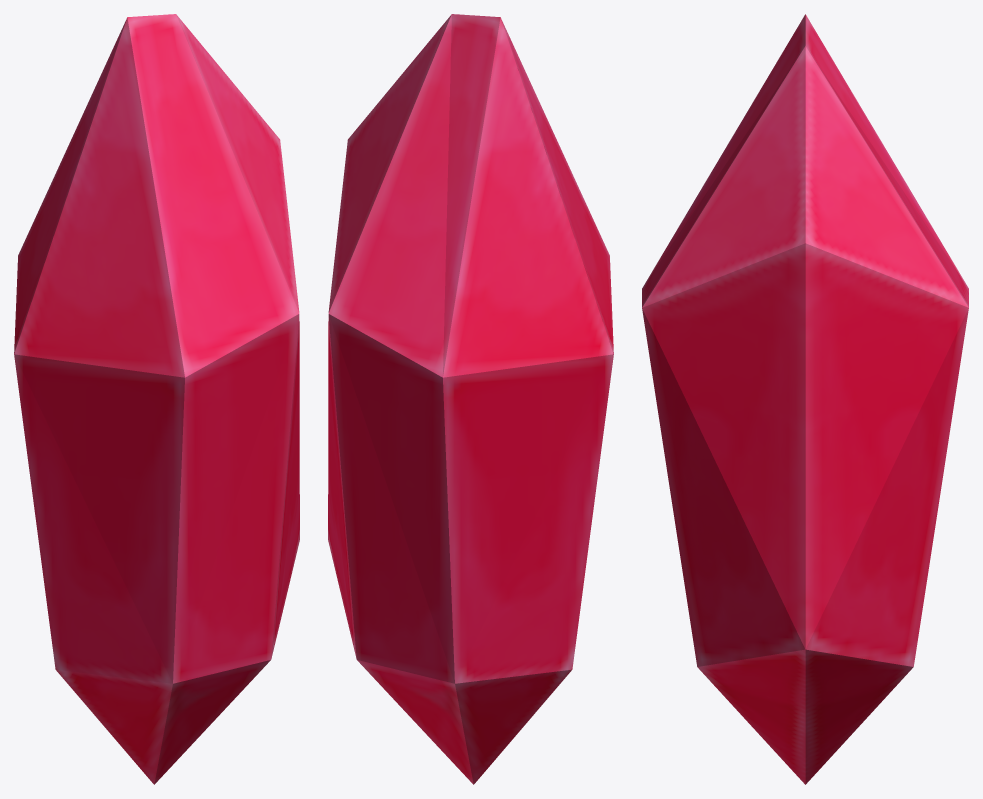
Rendered from ice_prop_14.FBX.
3 views of the same model, side by side, from view 1: azimuth 30°, elevation 25°; view 2: azimuth 150°, elevation 25°; view 3: azimuth 270°, elevation 25° (orthographic). The views are drawn at different scales.
Parts seen in each view (by area): view 1: Object050; view 2: Object050; view 3: Object050.
Boxes of the visible parts, x1=… form: Object050: x1=14, y1=14, x2=299, y2=784; Object050: x1=328, y1=14, x2=613, y2=784; Object050: x1=642, y1=14, x2=968, y2=784.
Size of the model in its own units: 62.51 by 63.25 by 162.
